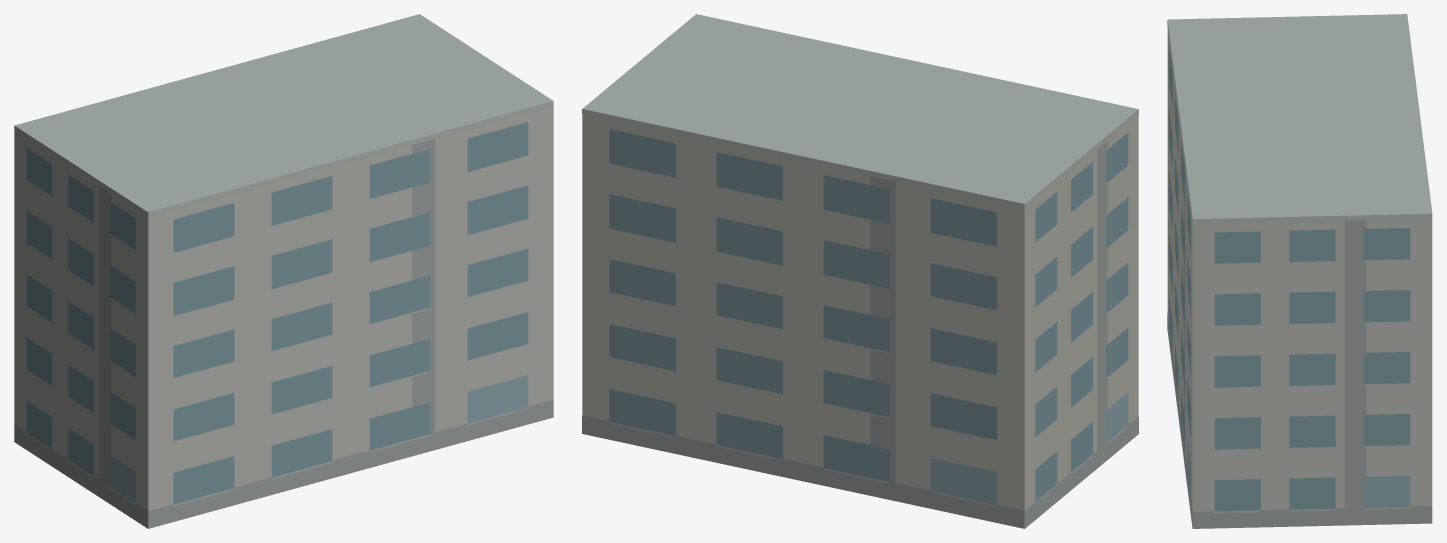
File: survey-upis-32629994.glb
3 views of the same model, side by side, from view 1: azimuth 30°, elevation 25°; view 2: azimuth 150°, elevation 25°; view 3: azimuth 270°, elevation 25° (orthographic). The views are drawn at different scales.
Parts seen in each view (by area): view 1: survey-upis-32629994.tmp; view 2: survey-upis-32629994.tmp; view 3: survey-upis-32629994.tmp.
Boxes of the visible parts, x1=… form: survey-upis-32629994.tmp: x1=14, y1=14, x2=553, y2=528; survey-upis-32629994.tmp: x1=582, y1=14, x2=1138, y2=528; survey-upis-32629994.tmp: x1=1167, y1=14, x2=1432, y2=528.
Bounding box in the file's own units: 21.67 × 15.25 × 11.84.
